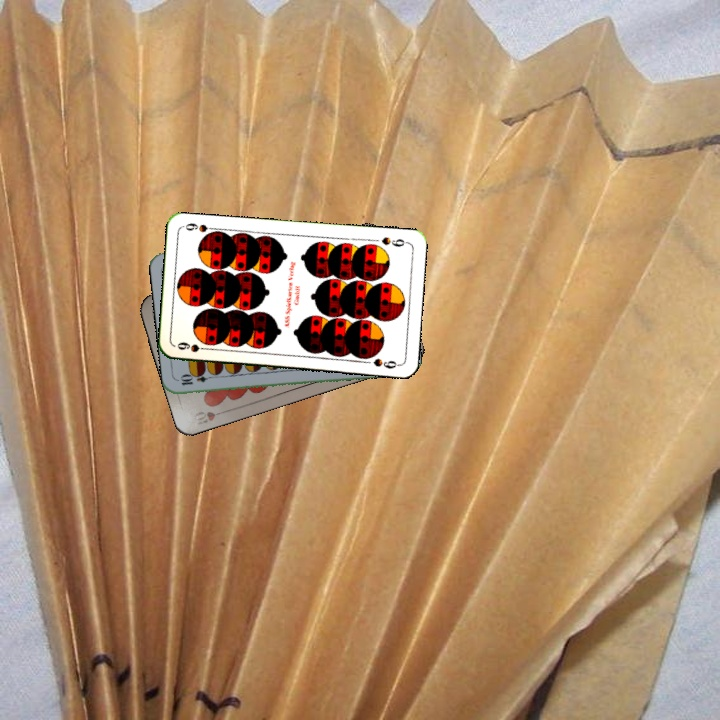E10: (176, 371, 217, 388)
H10: (189, 407, 229, 429)
S9: (173, 338, 214, 355), (377, 233, 410, 249)
